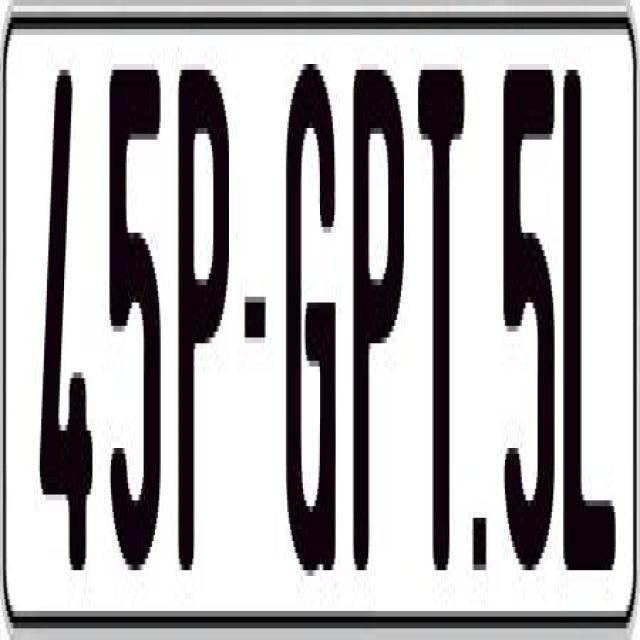4: (36, 58, 90, 564)
5: (108, 70, 162, 600), (503, 58, 558, 576)
G: (282, 52, 342, 576)
L: (563, 58, 617, 576)
P: (176, 52, 235, 582), (352, 64, 402, 582)
T: (417, 70, 468, 594)
